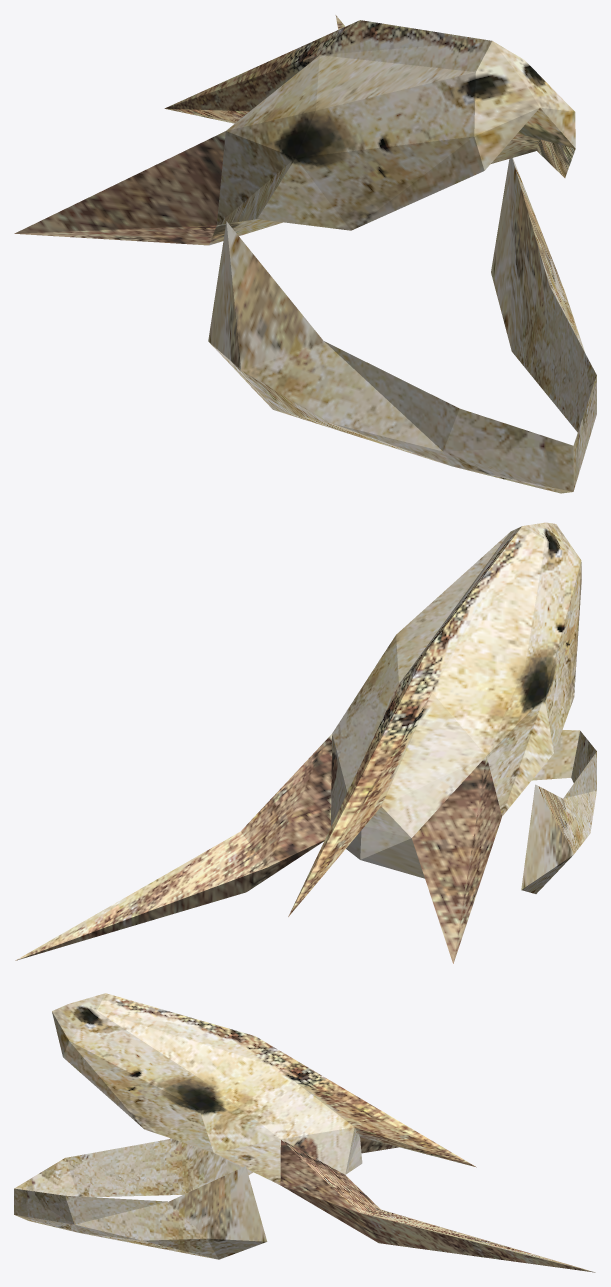
The model's file is poi_tato_skel_krayt_head_s01_l3.fbx.
3 views of the same model, one above another, from view 1: azimuth 30°, elevation 25°; view 2: azimuth 150°, elevation 25°; view 3: azimuth 270°, elevation 25° (orthographic). The views are drawn at different scales.
Visible parts, largest first — view 1: mesh_node; view 2: mesh_node; view 3: mesh_node.
Boxes of the visible parts, left/top/right/bottom form: mesh_node: left=14, top=15, right=596, bottom=493; mesh_node: left=15, top=522, right=596, bottom=963; mesh_node: left=14, top=993, right=595, bottom=1272.
Bounding box in the file's own units: 2.75 × 2.32 × 5.24.
1 material, 1 textured.
